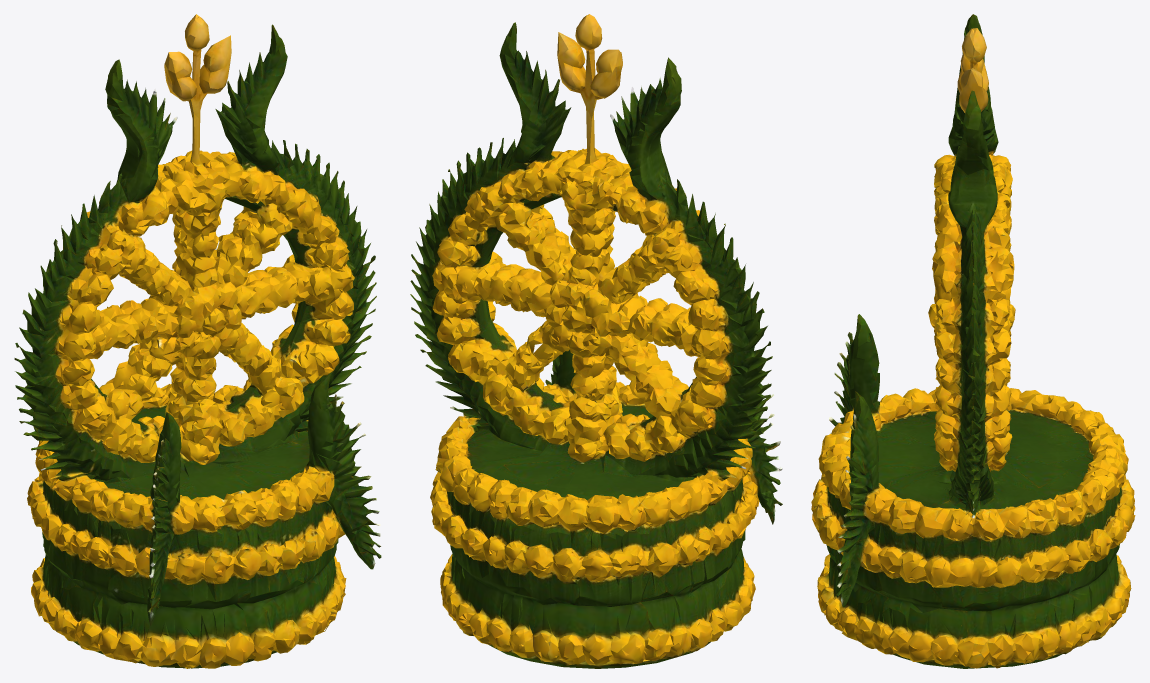
Rendered from w3wheel.glb.
3 views of the same model, side by side, from view 1: azimuth 30°, elevation 25°; view 2: azimuth 150°, elevation 25°; view 3: azimuth 270°, elevation 25° (orthographic).
Parts seen in each view (by area): view 1: output_unwrapped; view 2: output_unwrapped; view 3: output_unwrapped.
Boxes of the visible parts, x1,y1,x2,y2 form: output_unwrapped: (14,14,381,668); output_unwrapped: (410,14,782,668); output_unwrapped: (811,14,1135,668).
Bounding box in the file's own units: 0.9539 × 1.5 × 0.7475.
1 material, 1 textured.
